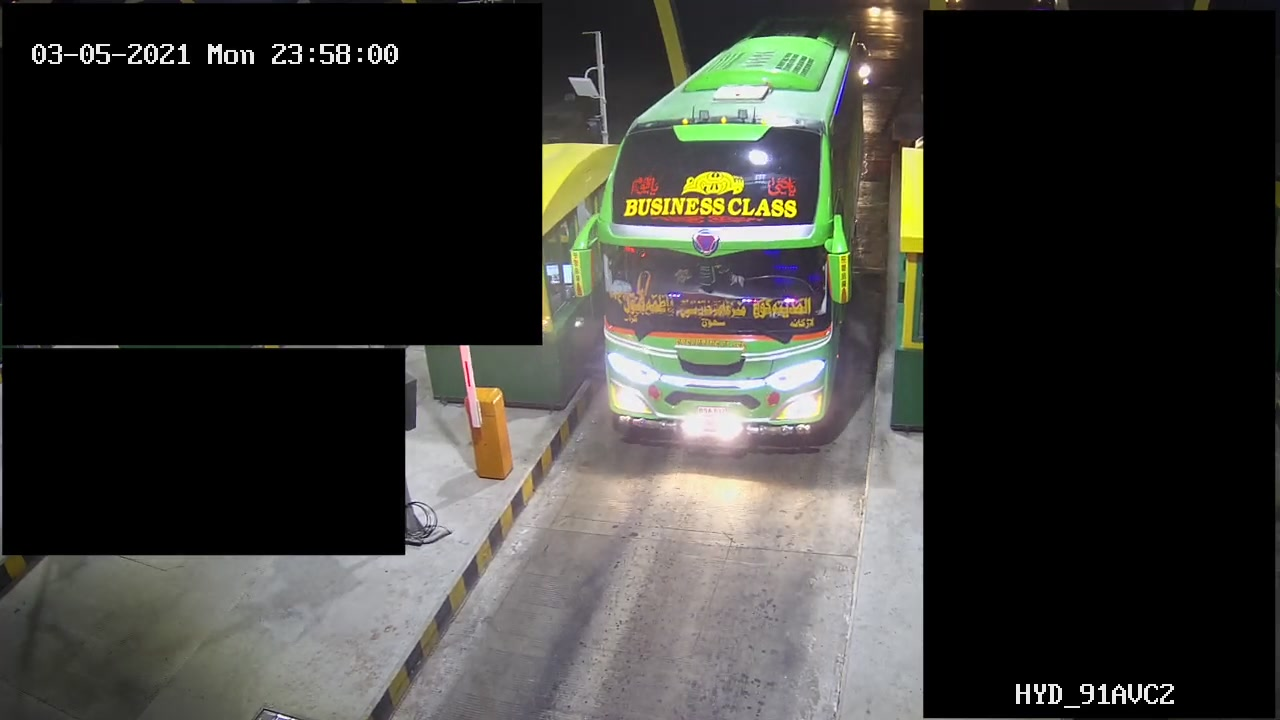F4: (602, 17, 864, 461)
